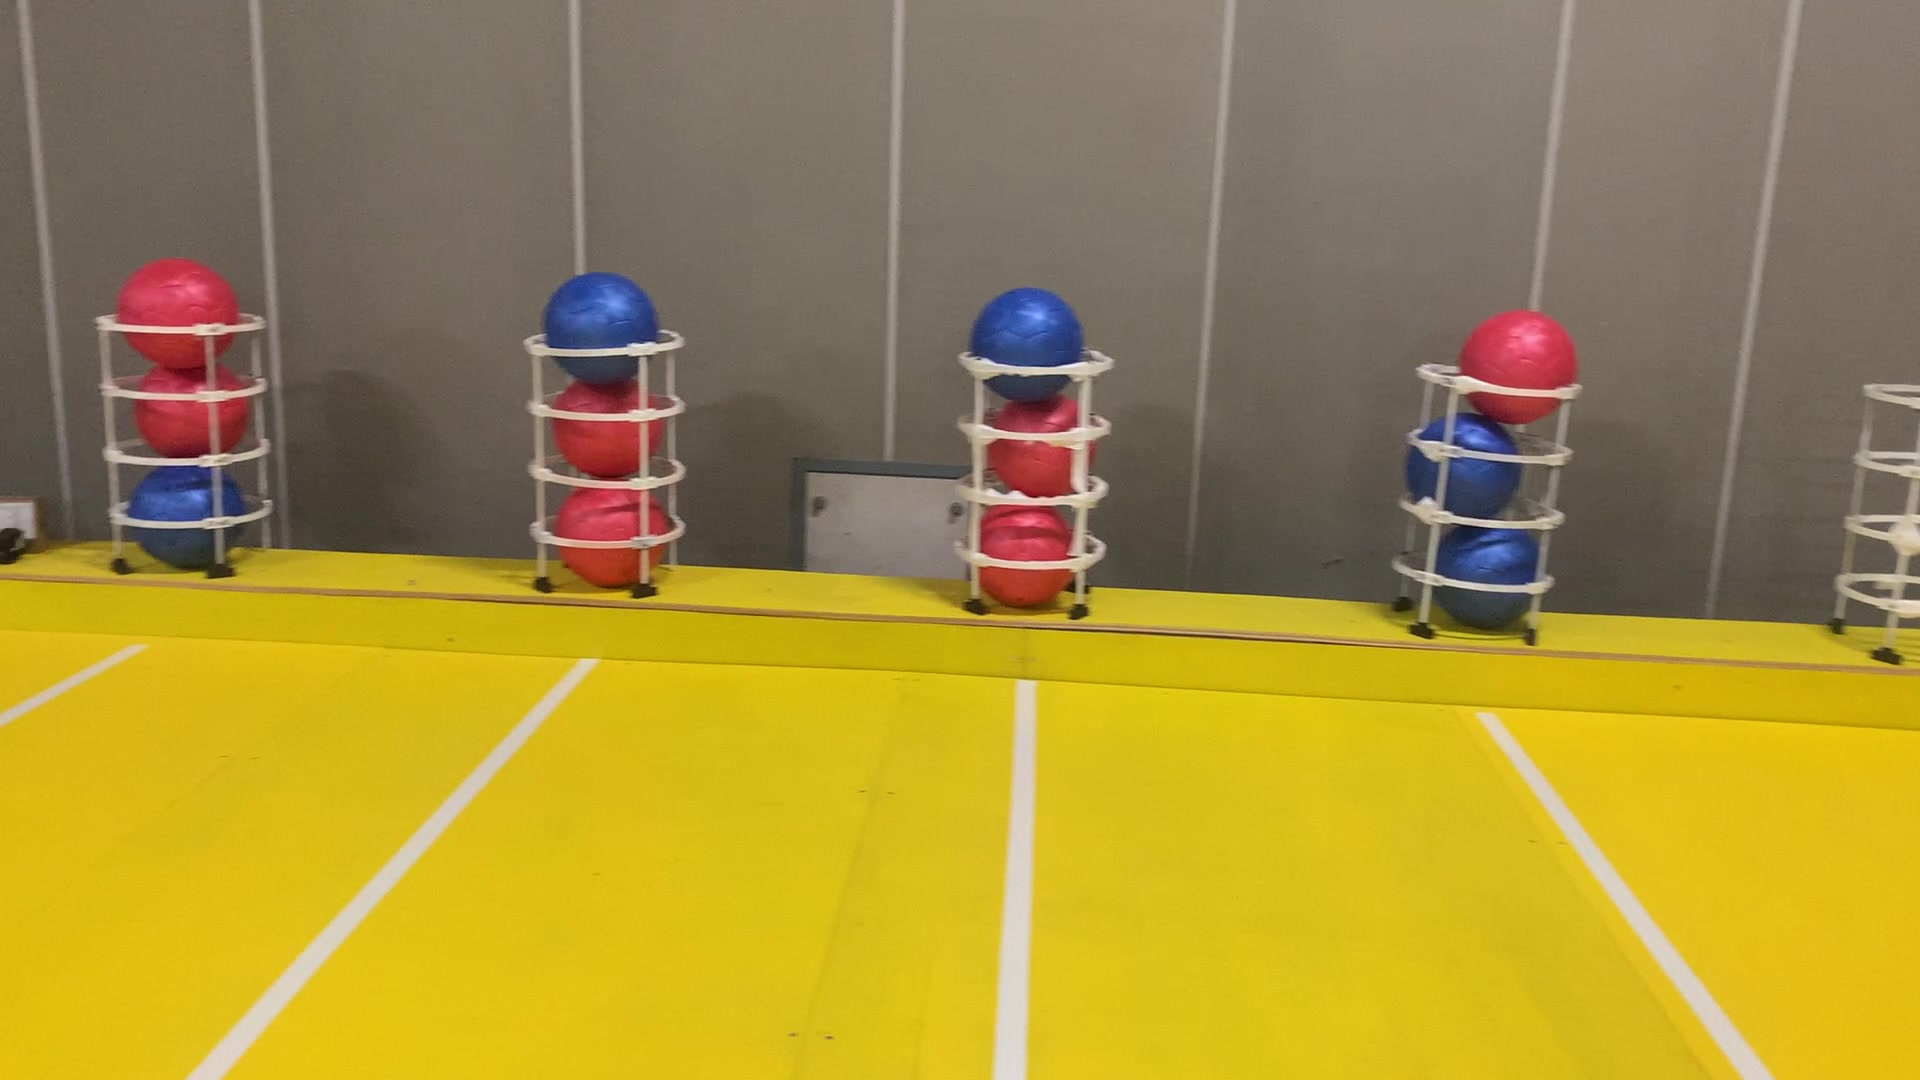blue: (1419, 505, 1549, 634), (1399, 396, 1527, 524), (967, 280, 1088, 402), (537, 270, 665, 382), (128, 462, 244, 574)
red: (112, 241, 241, 371), (1458, 302, 1585, 427), (135, 343, 252, 471), (550, 473, 671, 596), (963, 496, 1085, 608), (553, 371, 671, 473), (976, 398, 1097, 498)
